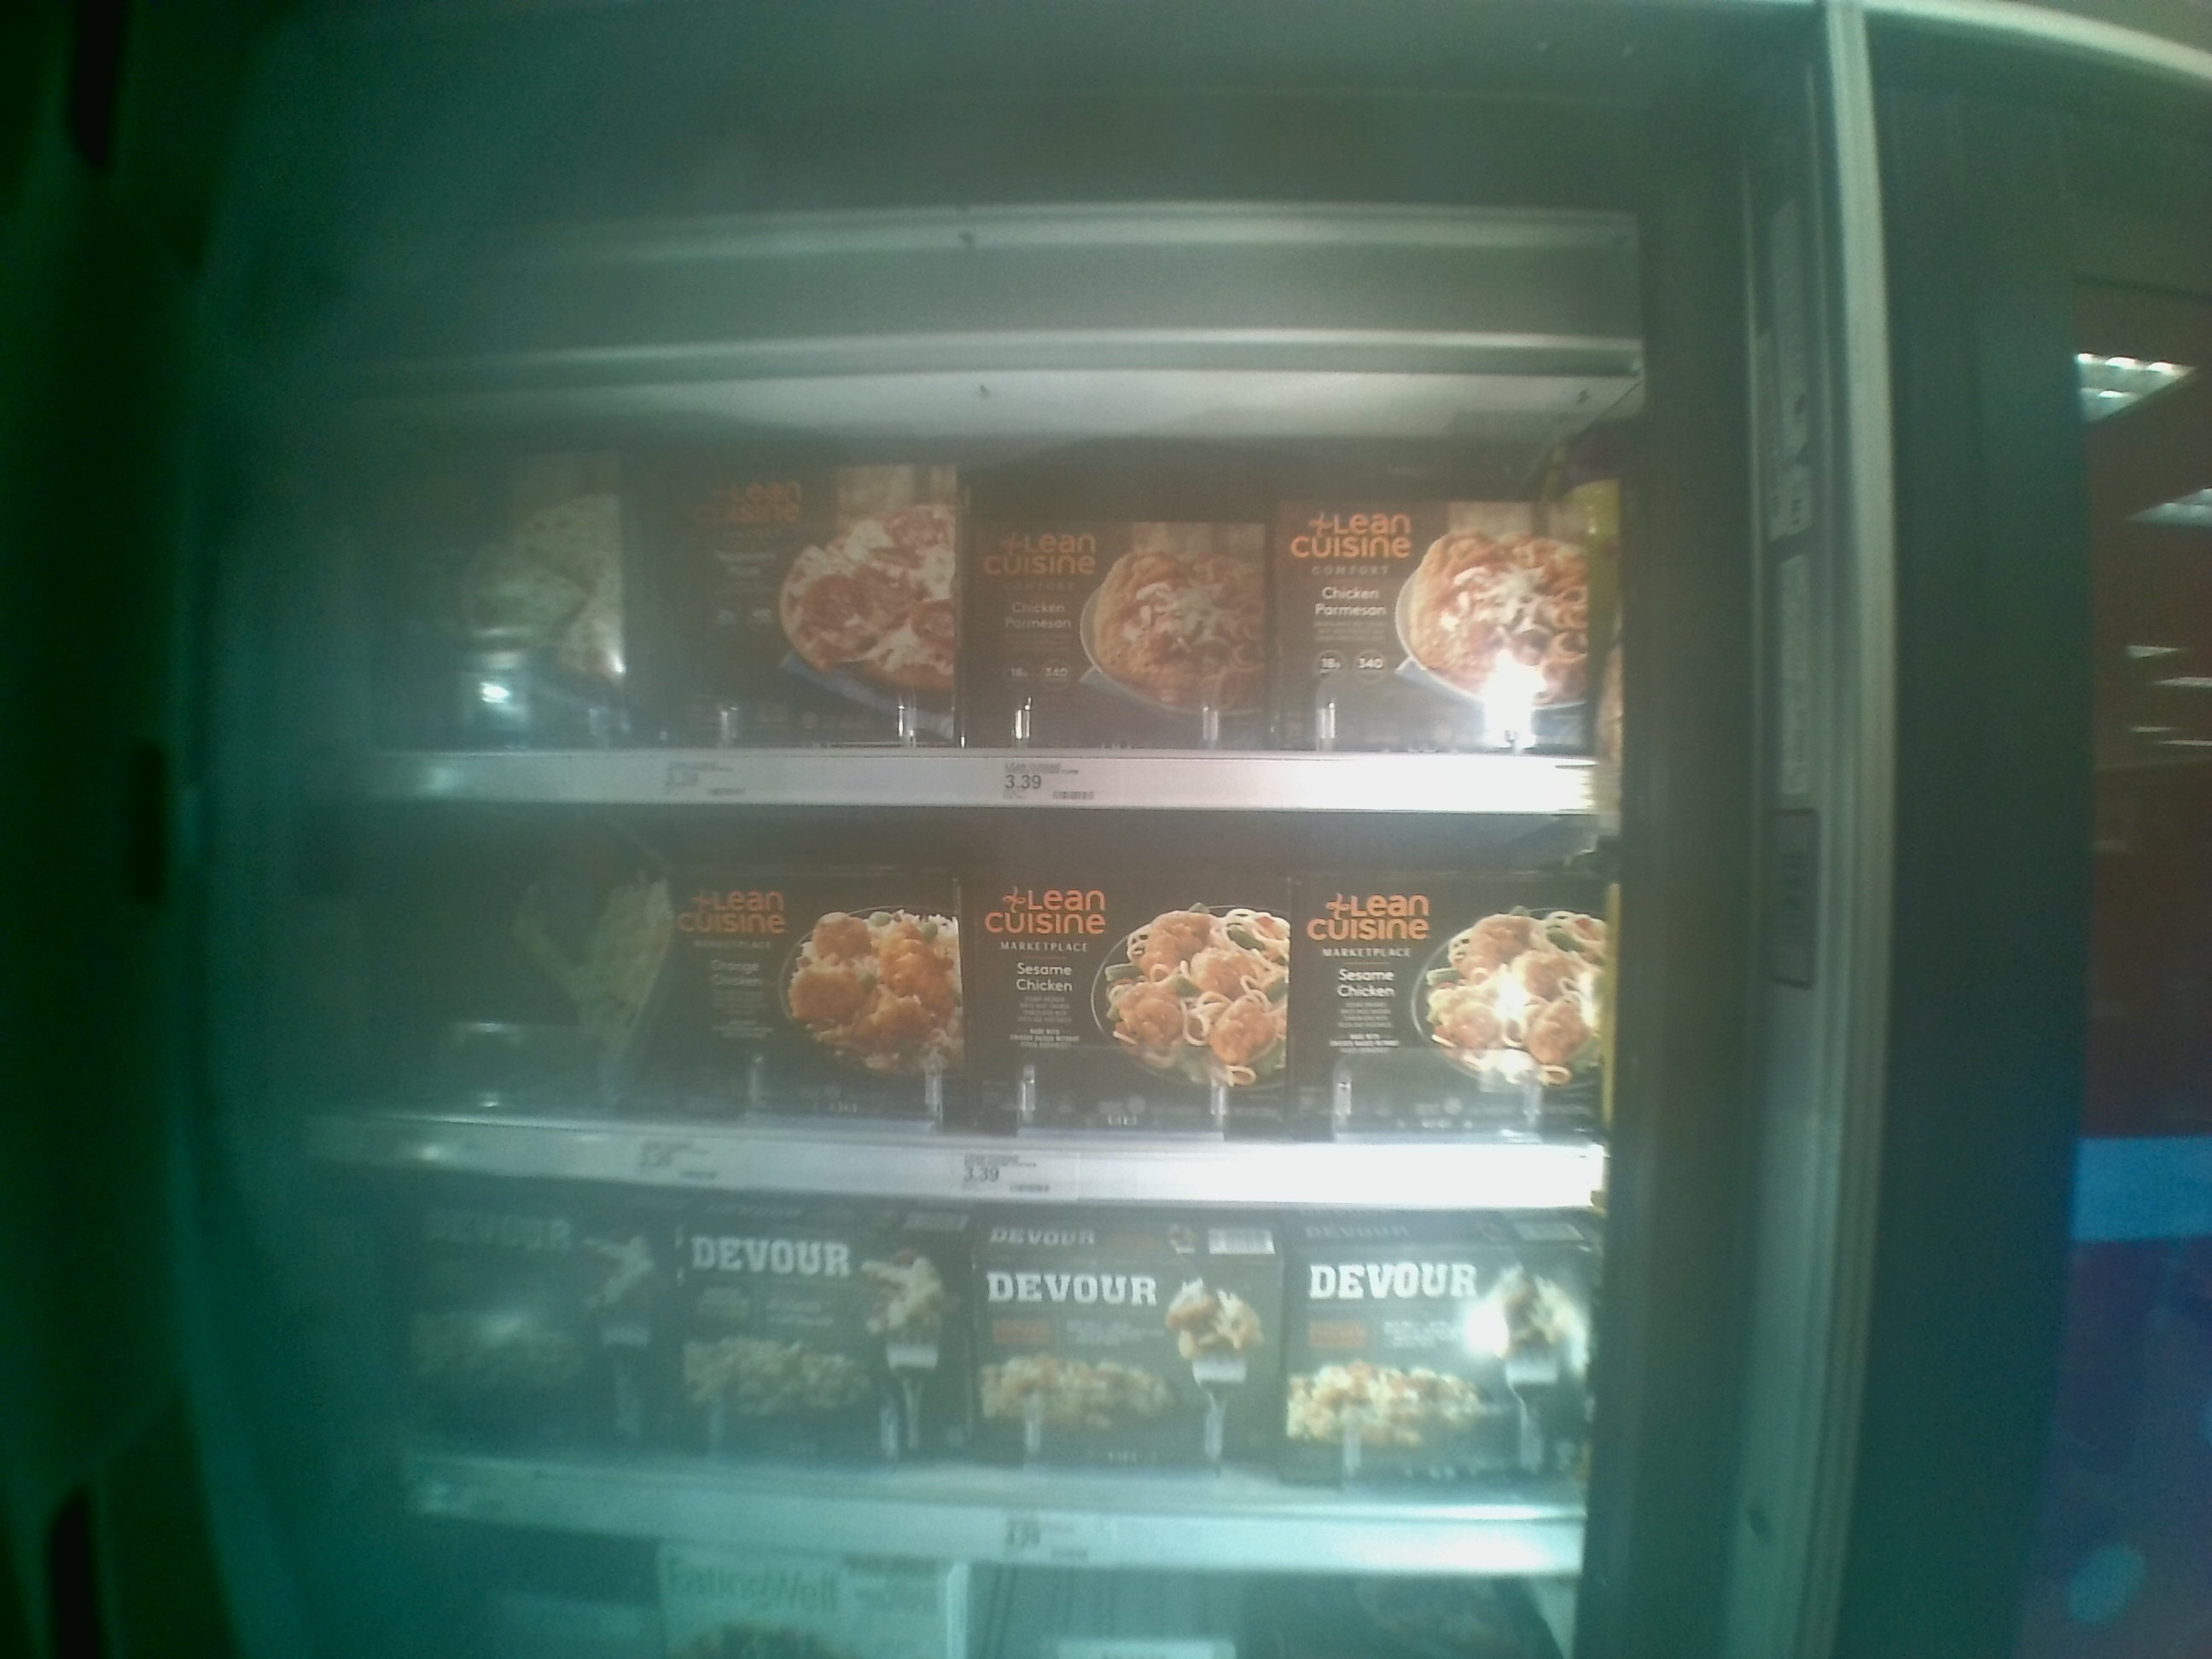shelf: (320, 380, 1630, 817), (331, 807, 1615, 1211), (331, 1171, 1594, 1570)
